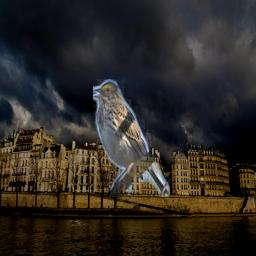Sparrow: (93, 79, 170, 197)
